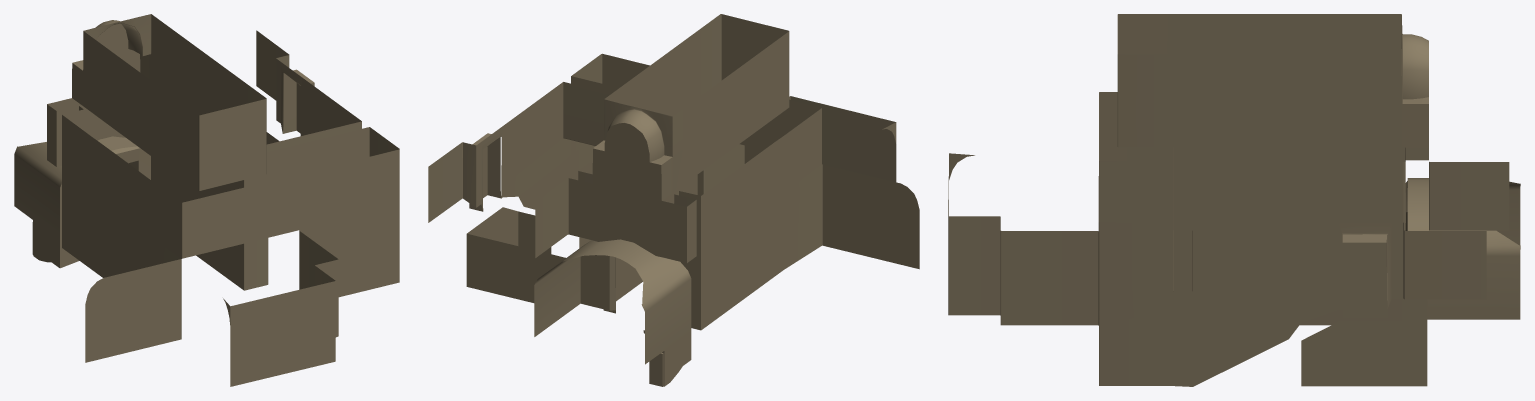
The model's file is WallsR.fbx.
3 renders of one model, left to right at view 1: azimuth 30°, elevation 25°; view 2: azimuth 150°, elevation 25°; view 3: azimuth 270°, elevation 25°, orthographic. The views are drawn at different scales.
Visible parts, largest first — view 1: Walls; view 2: Walls; view 3: Walls.
Boxes of the visible parts, x1=… form: Walls: x1=14, y1=14, x2=399, y2=386; Walls: x1=428, y1=14, x2=919, y2=386; Walls: x1=948, y1=14, x2=1520, y2=386.
Bounding box in the file's own units: 1386 × 973 × 1700.
